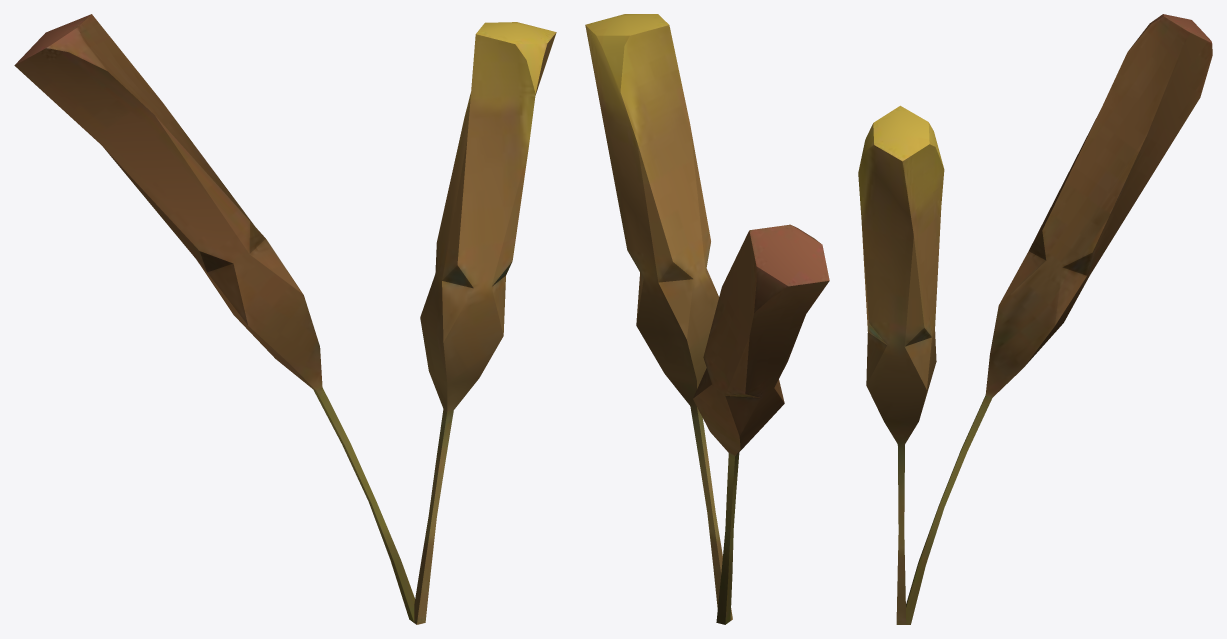
File: FOL_Flower_Big_08.obj
The picture shows the model from 3 angles, left to right: view 1: azimuth 30°, elevation 25°; view 2: azimuth 150°, elevation 25°; view 3: azimuth 270°, elevation 25°; orthographic projection. The views are drawn at different scales.
Visible parts, largest first — view 1: FOL_Flower_Big_08; view 2: FOL_Flower_Big_08; view 3: FOL_Flower_Big_08.
Part boxes in pixels (x1,y1,x2,y2): FOL_Flower_Big_08: (14, 14, 556, 624); FOL_Flower_Big_08: (585, 14, 829, 624); FOL_Flower_Big_08: (858, 14, 1212, 624).
Size of the model in its own units: 1.09 by 1.52 by 0.8987.
Materials: 1 (1 with a texture image).
